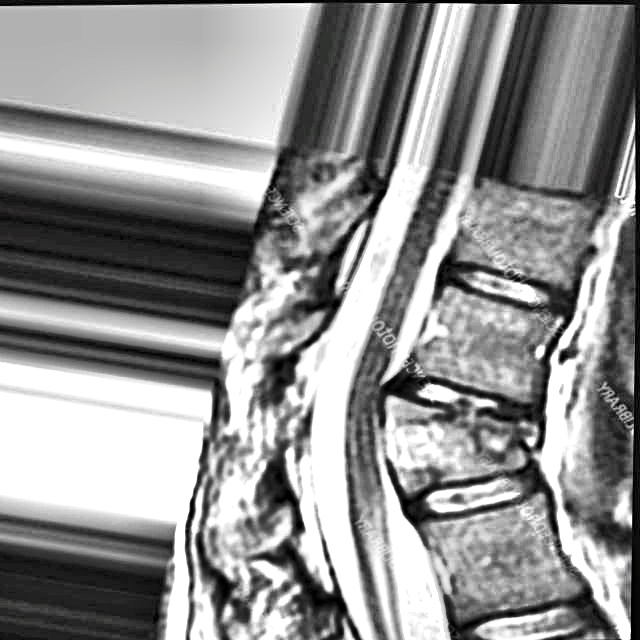Comminuted: (388, 364, 564, 474)
